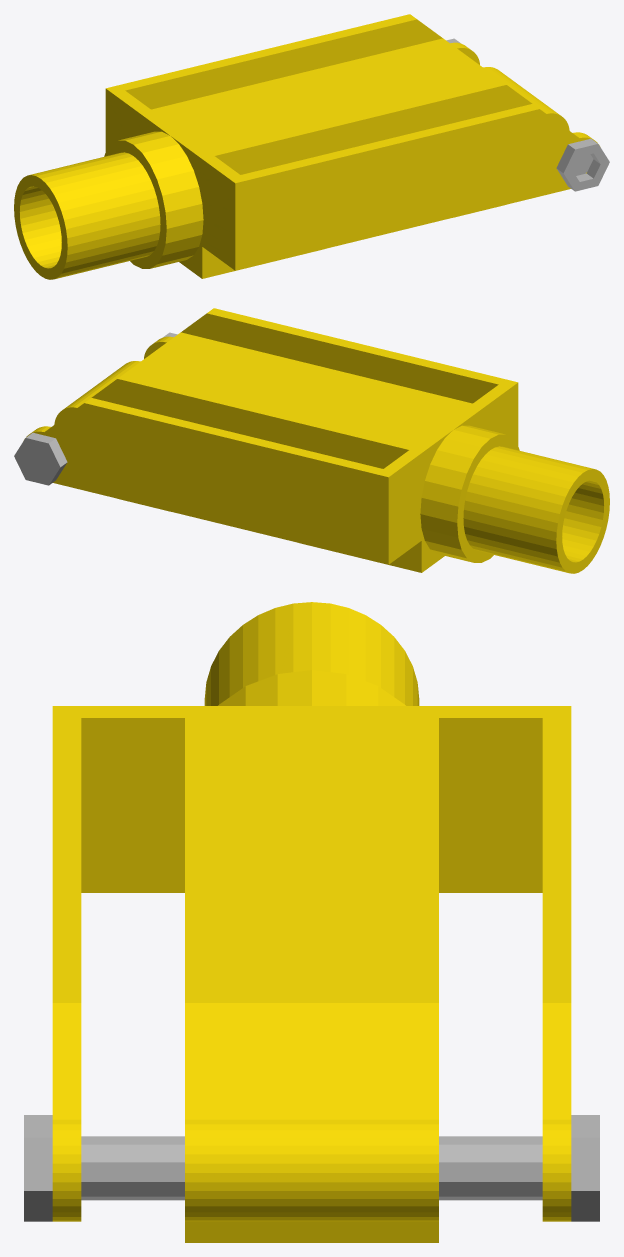
Rendered from jiegedianji.glb.
The picture shows the model from 3 angles, top to bottom: view 1: azimuth 30°, elevation 25°; view 2: azimuth 150°, elevation 25°; view 3: azimuth 270°, elevation 25°; orthographic projection. The views are drawn at different scales.
Visible parts, largest first — view 1: 截割电机两翼1, 截割电机, 花键套, 截割电机两翼2, 截割减速机, 截割电机螺丝; view 2: 截割电机两翼2, 截割电机, 花键套, 截割电机两翼1, 截割减速机, 截割电机螺丝; view 3: 截割电机, 截割电机两翼1, 截割电机两翼2, 截割电机螺丝, 花键套, 截割减速机.
Part boxes in pixels (left/top/right/bottom): 截割电机两翼1: left=202, top=104, right=599, bottom=270; 截割电机: left=138, top=38, right=569, bottom=278; 花键套: left=14, top=152, right=160, bottom=279; 截割电机两翼2: left=105, top=14, right=479, bottom=152; 截割减速机: left=104, top=131, right=203, bottom=268; 截割电机螺丝: left=446, top=38, right=609, bottom=191; 截割电机两翼2: left=24, top=398, right=421, bottom=564; 截割电机: left=54, top=332, right=485, bottom=572; 花键套: left=463, top=446, right=609, bottom=573; 截割电机两翼1: left=144, top=308, right=518, bottom=446; 截割减速机: left=420, top=425, right=519, bottom=562; 截割电机螺丝: left=14, top=332, right=177, bottom=485; 截割电机: left=185, top=706, right=438, bottom=1242; 截割电机两翼1: left=52, top=706, right=184, bottom=1221; 截割电机两翼2: left=439, top=706, right=571, bottom=1221; 截割电机螺丝: left=24, top=1115, right=599, bottom=1221; 花键套: left=204, top=602, right=419, bottom=705; 截割减速机: left=218, top=670, right=405, bottom=705.
Bounding box in the file's own units: 3.21 × 0.74 × 1.61.
